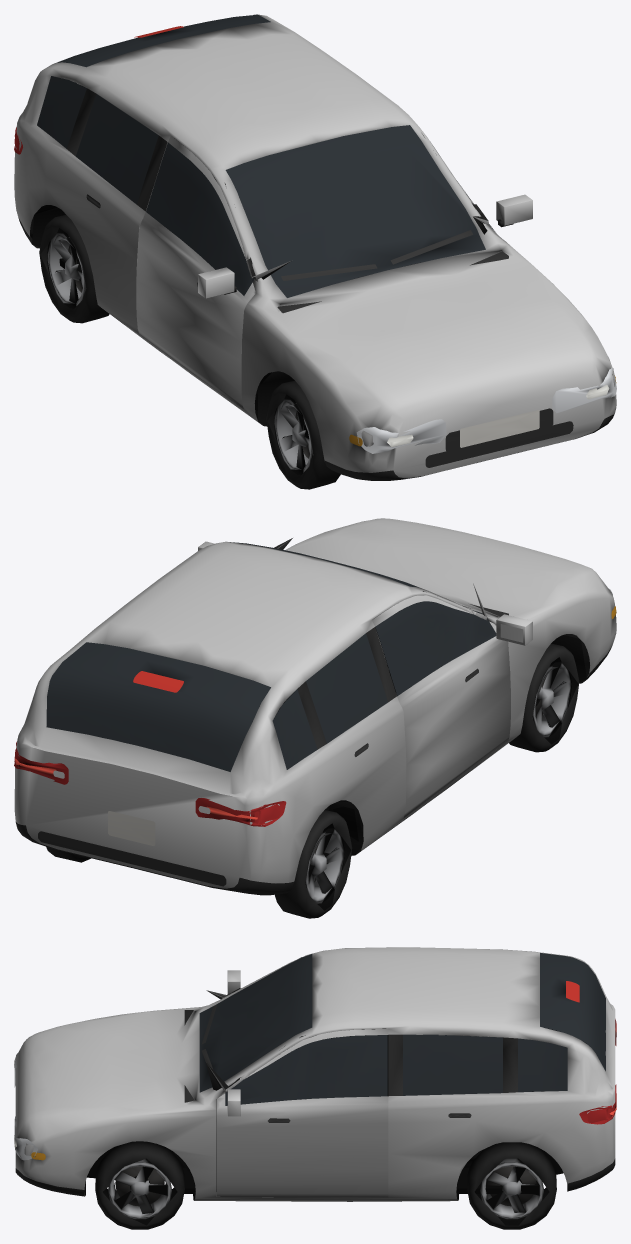
The model's file is car-hatch-lo-v2.glb.
3 renders of one model, top to bottom at view 1: azimuth 30°, elevation 25°; view 2: azimuth 150°, elevation 25°; view 3: azimuth 270°, elevation 25°, orthographic. The views are drawn at different scales.
Visible parts, largest first — view 1: body, door_R, wheel_FR, wheel_RR, door_L; view 2: body, door_R, wheel_RR, wheel_FR; view 3: body, door_L, wheel_FL, wheel_RL.
Part boxes in pixels (<box>): body: <box>14,14,616,480</box>; door_R: <box>136,135,255,408</box>; wheel_FR: <box>266,380,340,489</box>; wheel_RR: <box>39,215,109,323</box>; door_L: <box>427,137,532,237</box>; body: <box>14,518,616,895</box>; door_R: <box>372,595,532,817</box>; wheel_RR: <box>275,810,352,918</box>; wheel_FR: <box>509,643,579,752</box>; body: <box>14,947,616,1201</box>; door_L: <box>217,1028,388,1197</box>; wheel_FL: <box>95,1141,184,1229</box>; wheel_RL: <box>467,1142,556,1229</box>.
Bounding box in the file's own units: 2.14 × 1.53 × 4.17.
